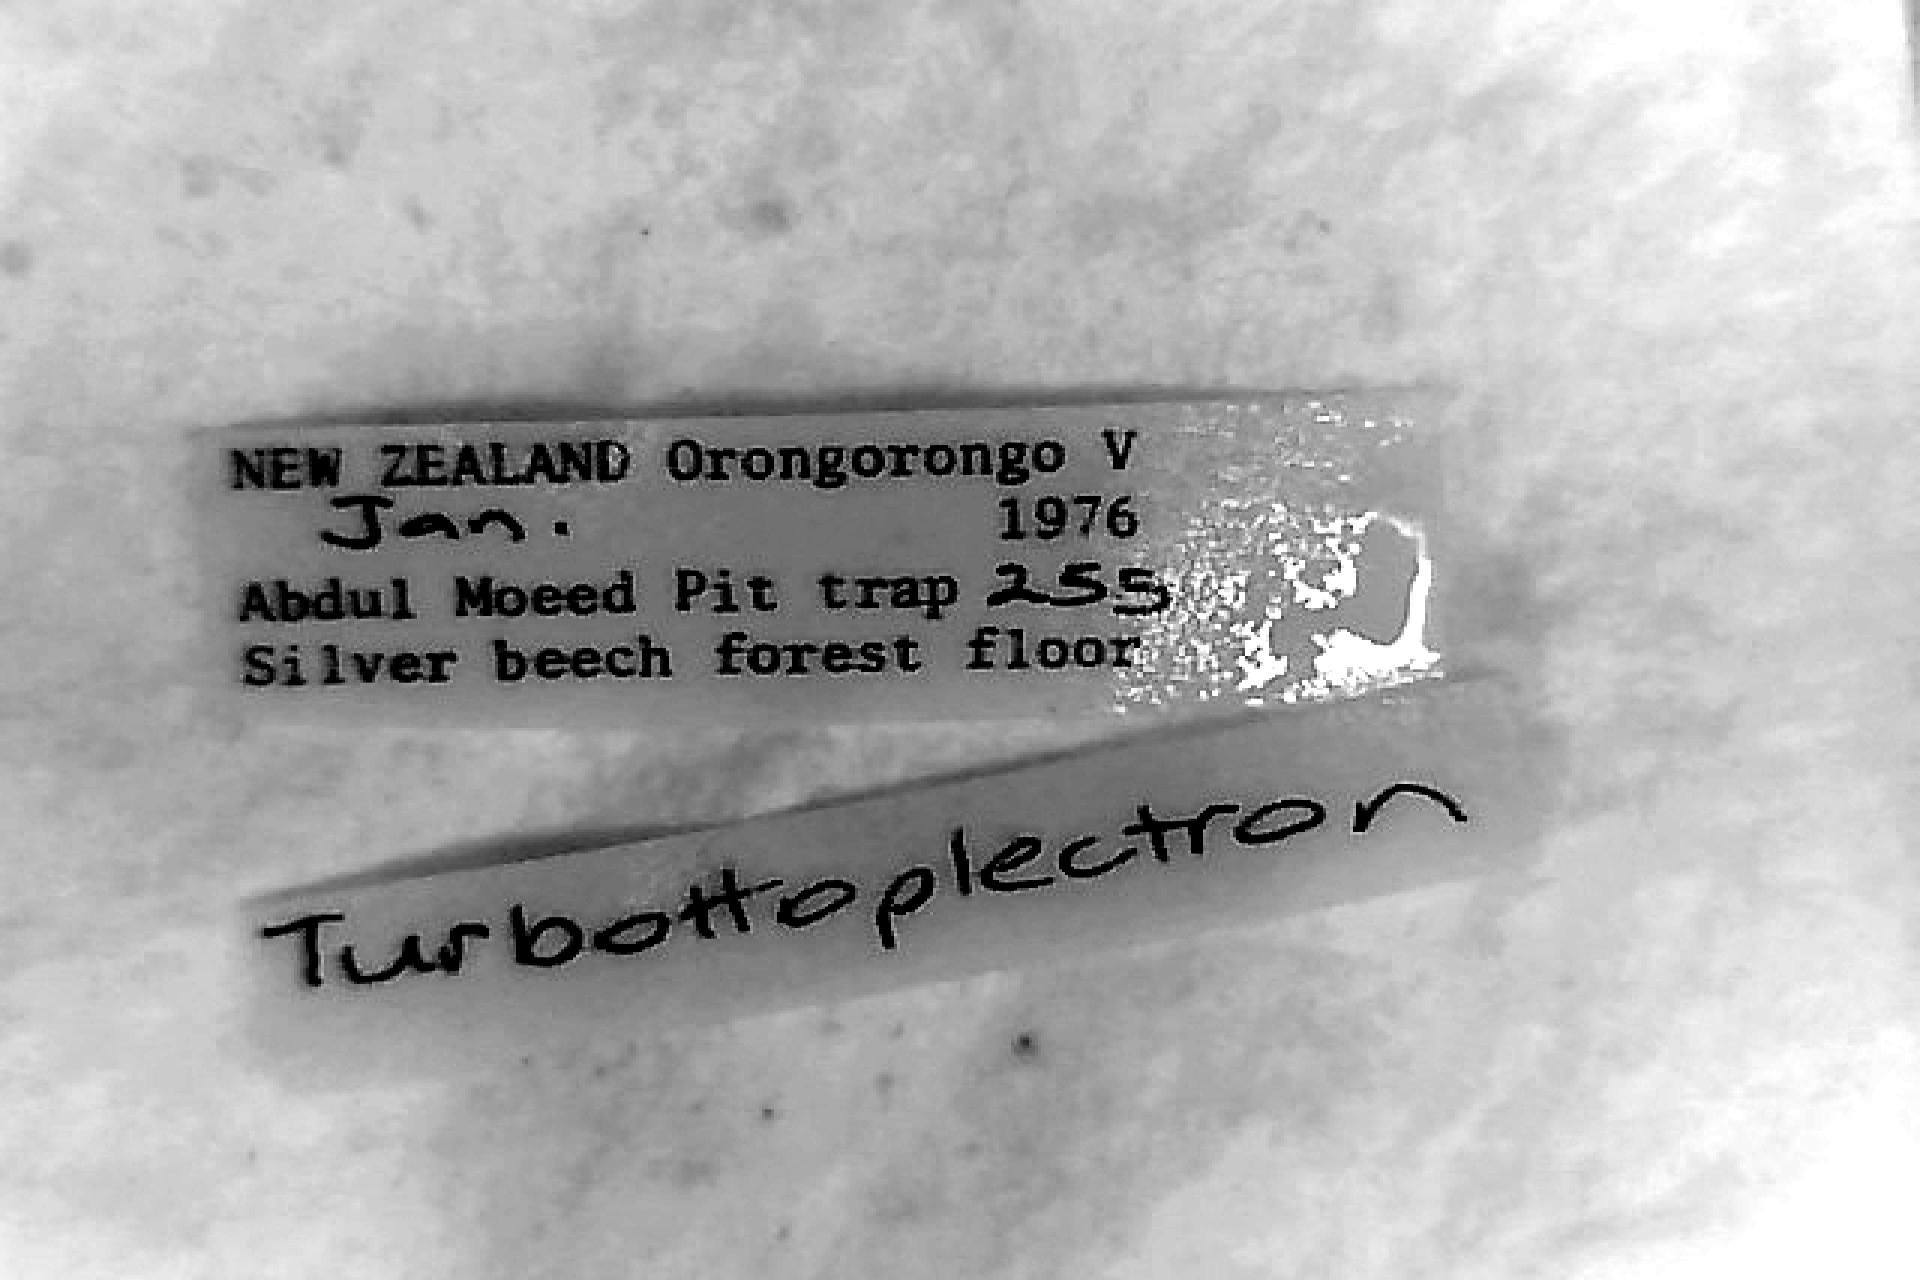hand_label: (261, 683, 1534, 1072)
mixed_label: (206, 390, 1436, 722)
